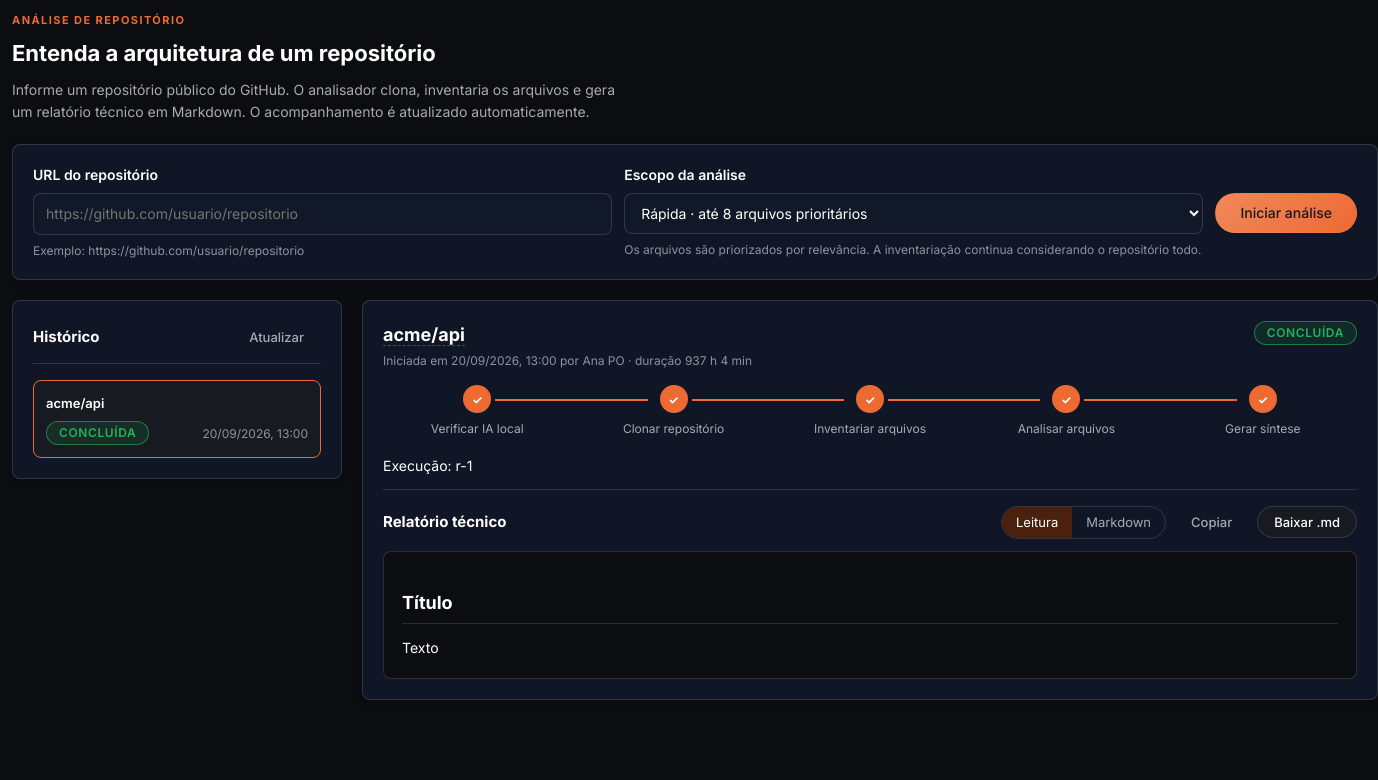
Scenario: alterna o relatório entre leitura e Markdown bruto
Expected: the heading "Título" is shown, [402,588,1338,624]
Click the button "Markdown".
click(1119, 522)  # box [1072,507,1165,538]
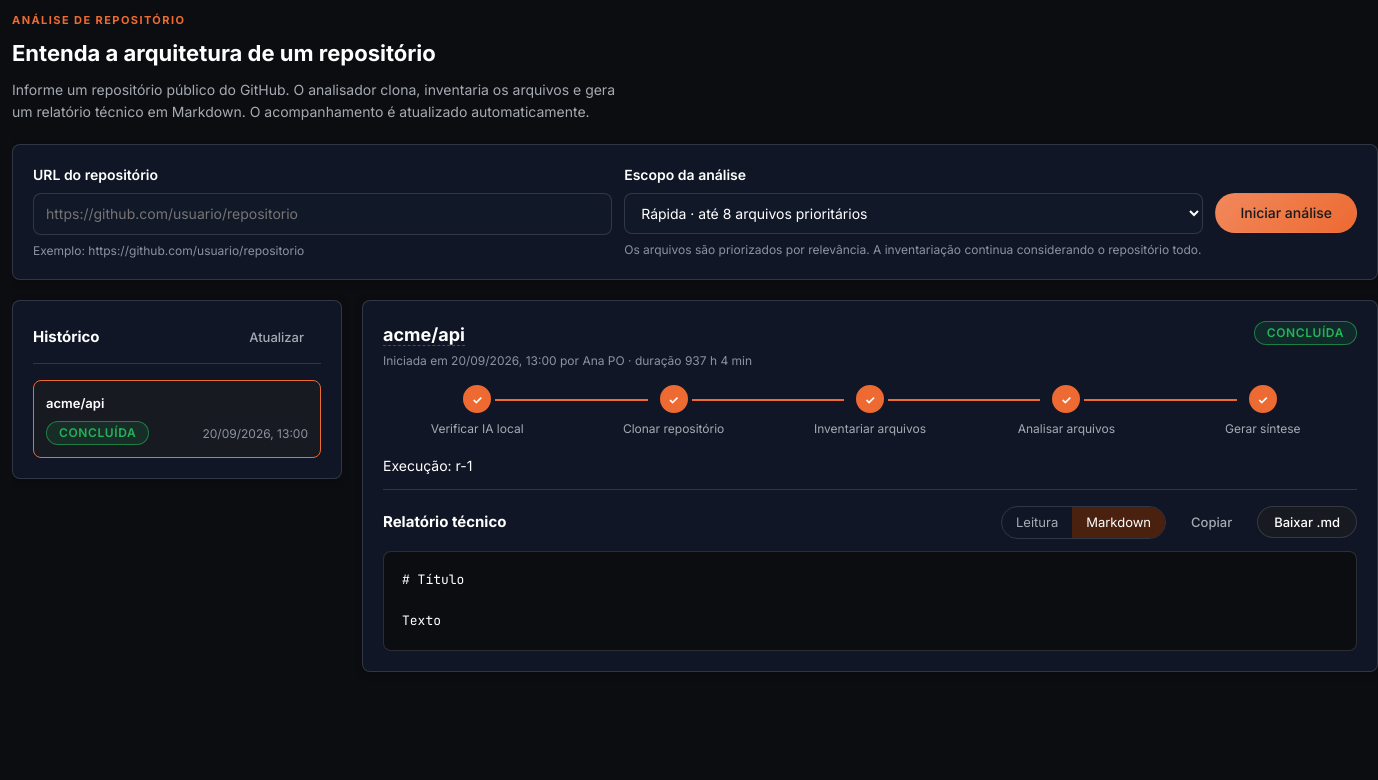
Result: the text "# Título Texto" is shown at [383,551,1357,651]
